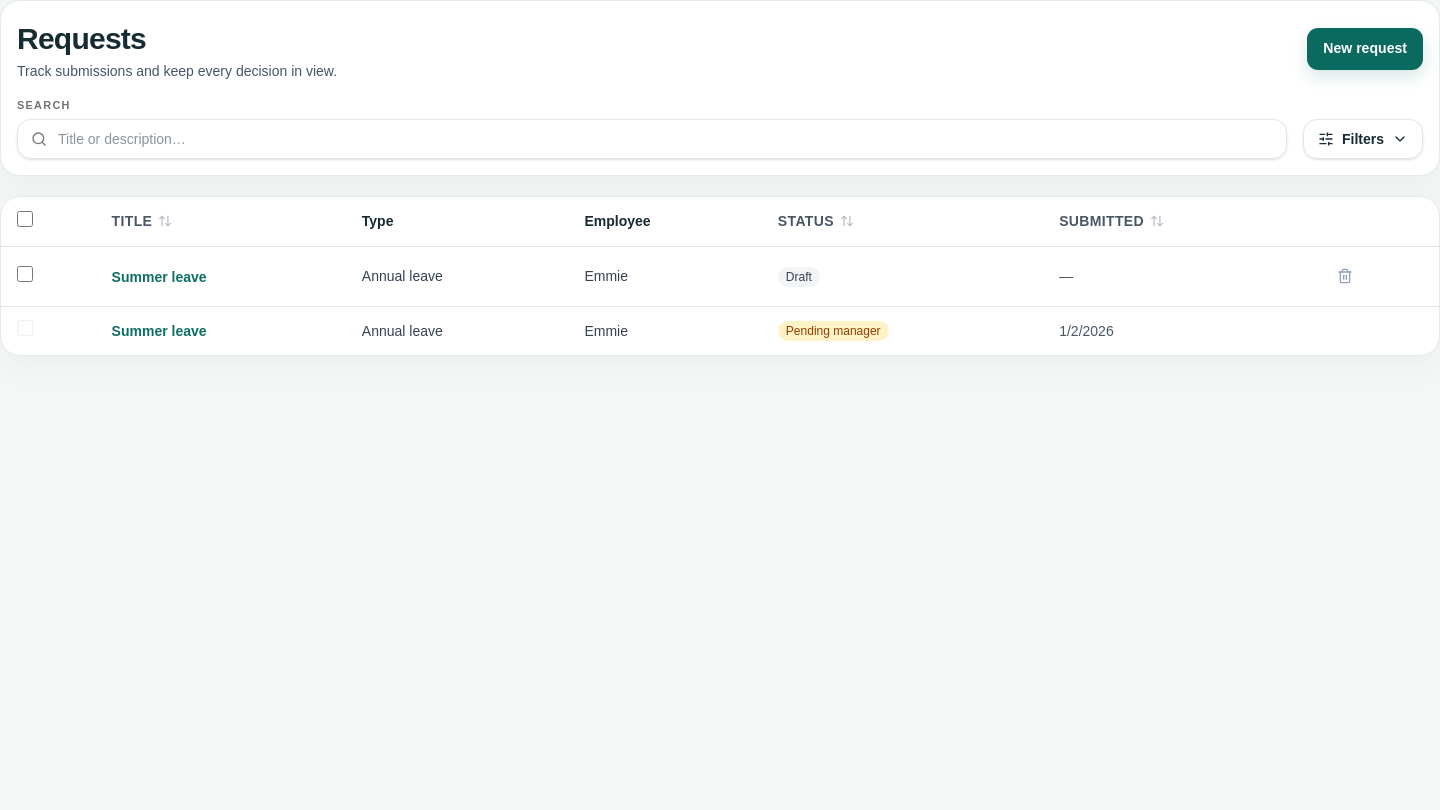
Test: RequestsPage › bulk-deletes selected drafts after confirmation
Click the checkbox named "select request" in the row of "Draft" at {"x": 25, "y": 274}, box [17,266,33,282]
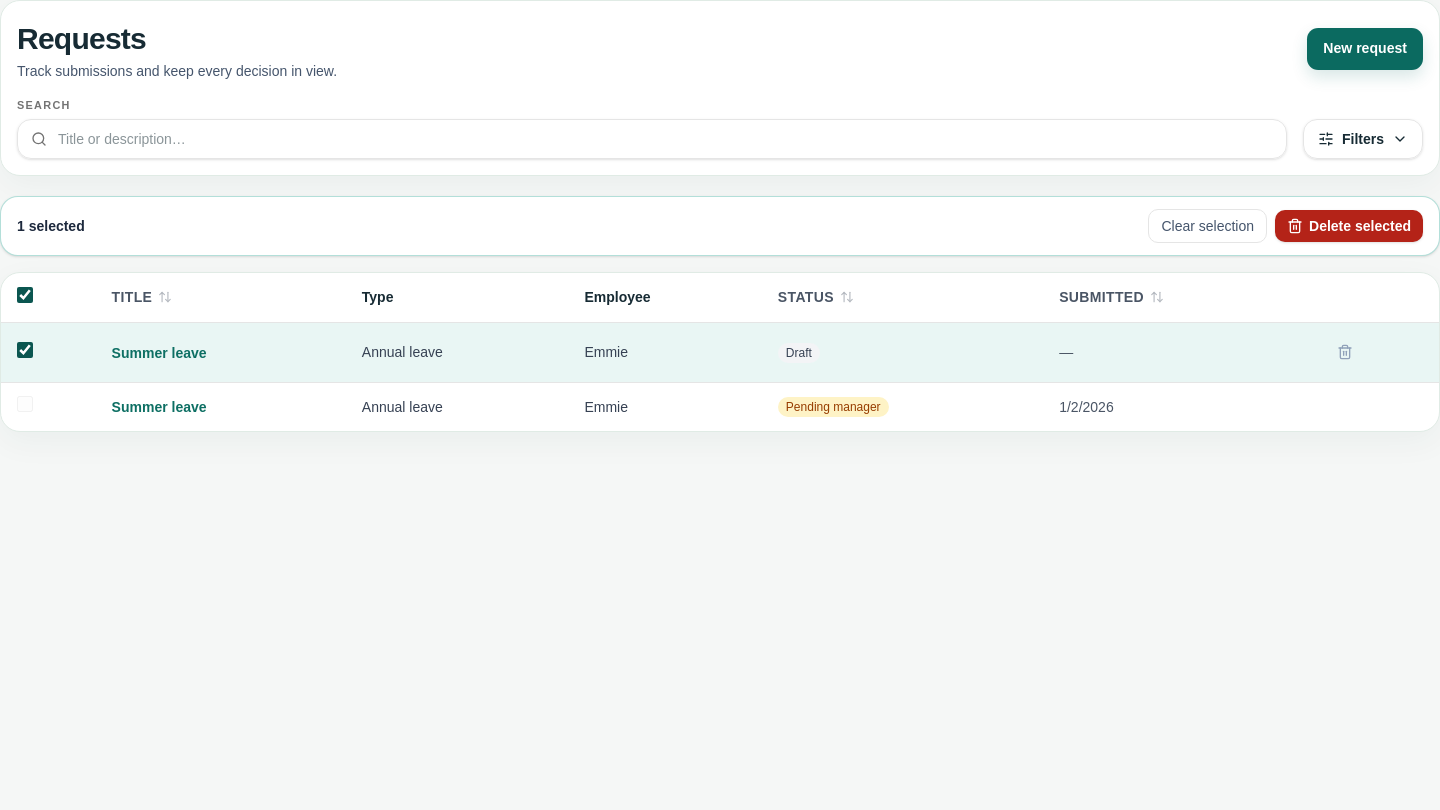
Expected: the text "1 selected" is shown, [17,216,85,236]
Click the button "Delete selected" at {"x": 1349, "y": 226}, box [1275,210,1423,242]
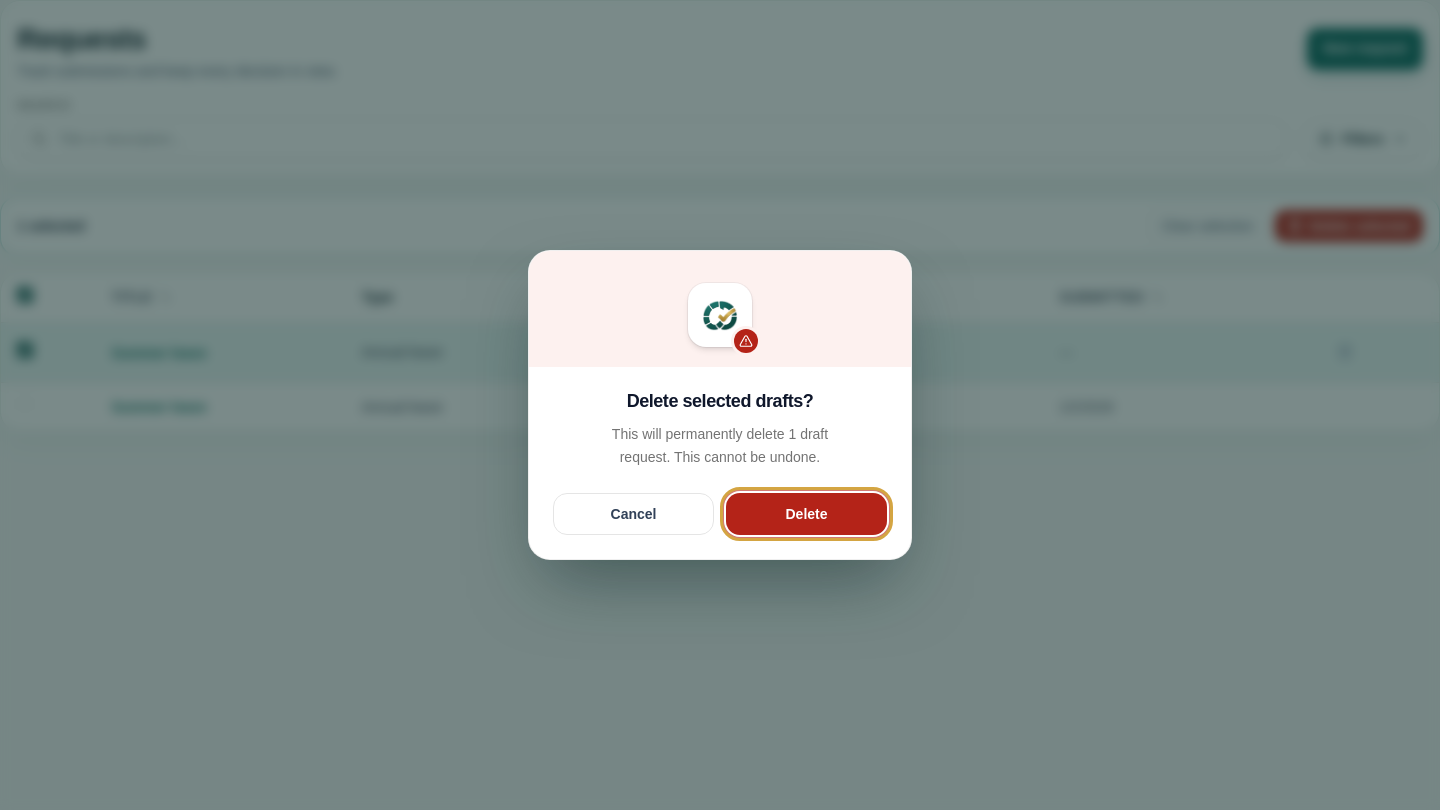
Click the button "Delete" at {"x": 806, "y": 514}, box [726,493,887,535]
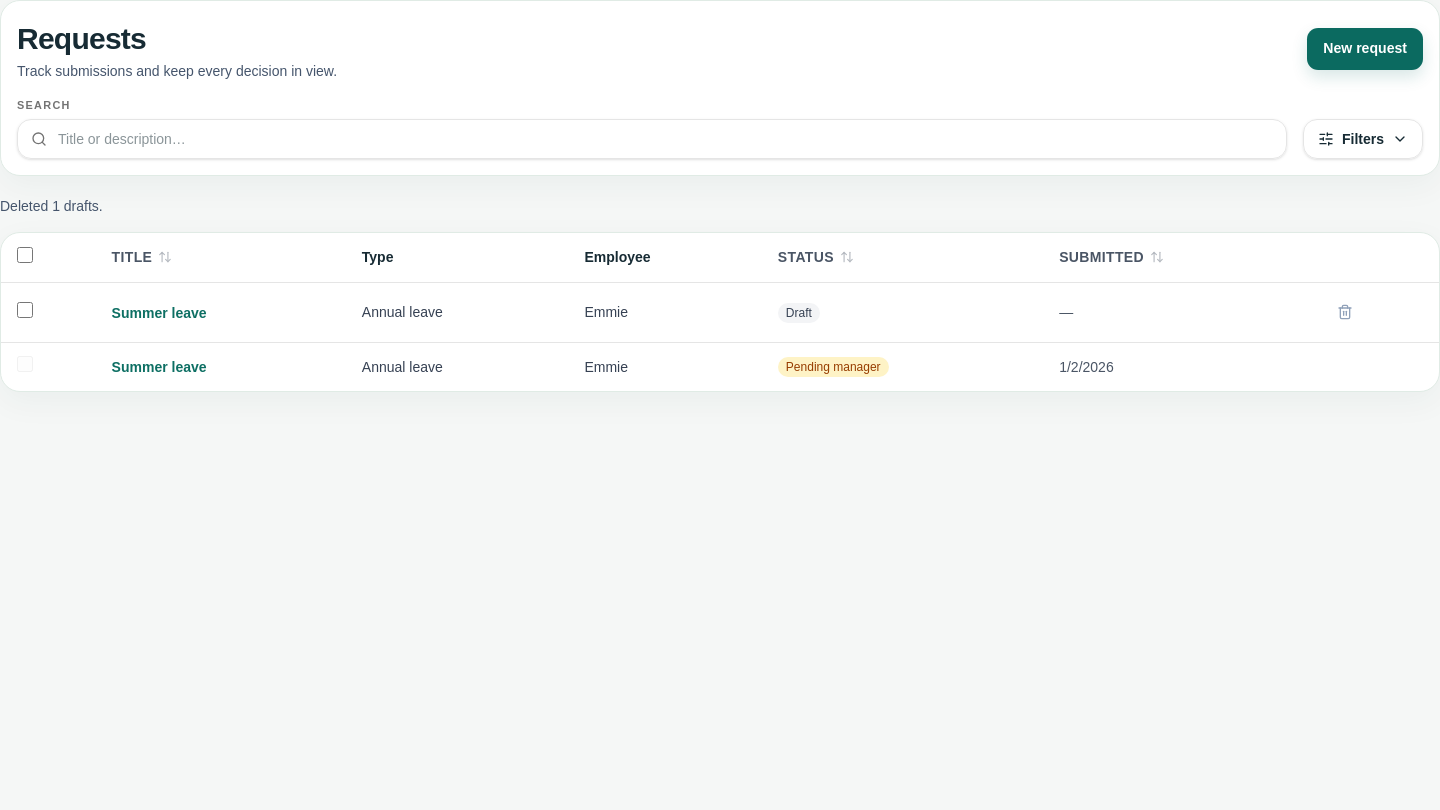
Expected: the text "Deleted 1 drafts." is shown, [0,198,103,214]
